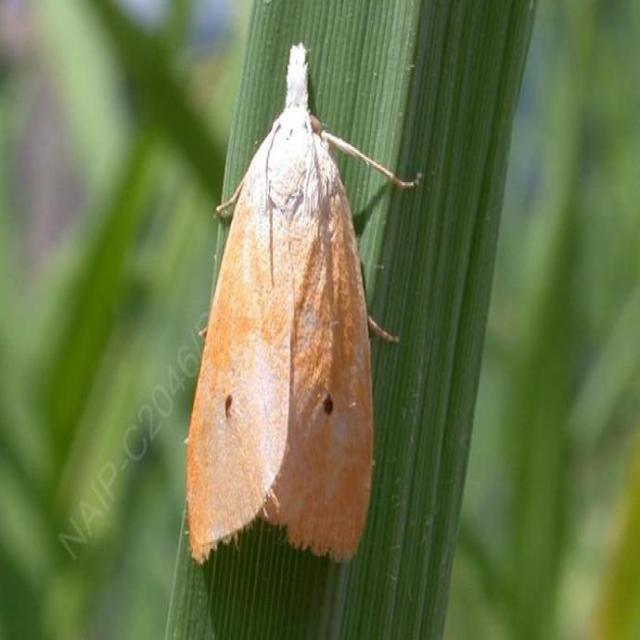yellow-stem-borer: (128, 14, 423, 569)
